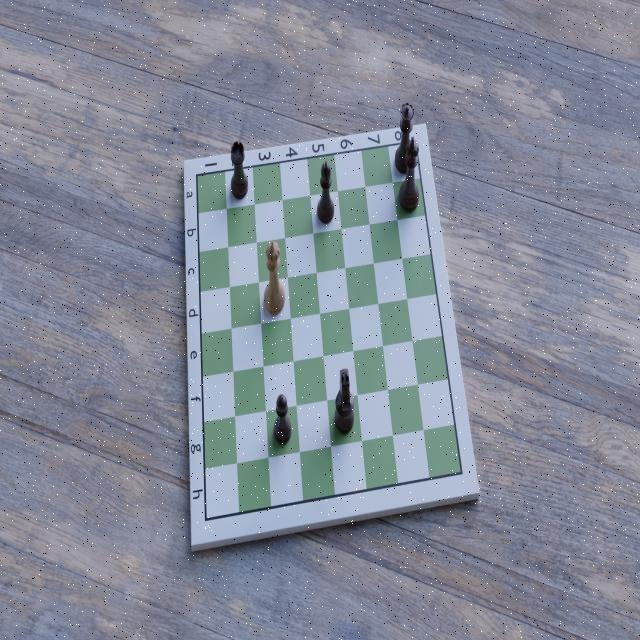black-bishop: (316, 158, 336, 225)
black-king: (397, 136, 421, 216)
black-knight: (332, 365, 355, 436)
black-queen: (393, 100, 416, 176)
black-rook: (229, 139, 250, 201)
white-king: (261, 238, 287, 318)
white-pawn: (271, 393, 293, 446)
